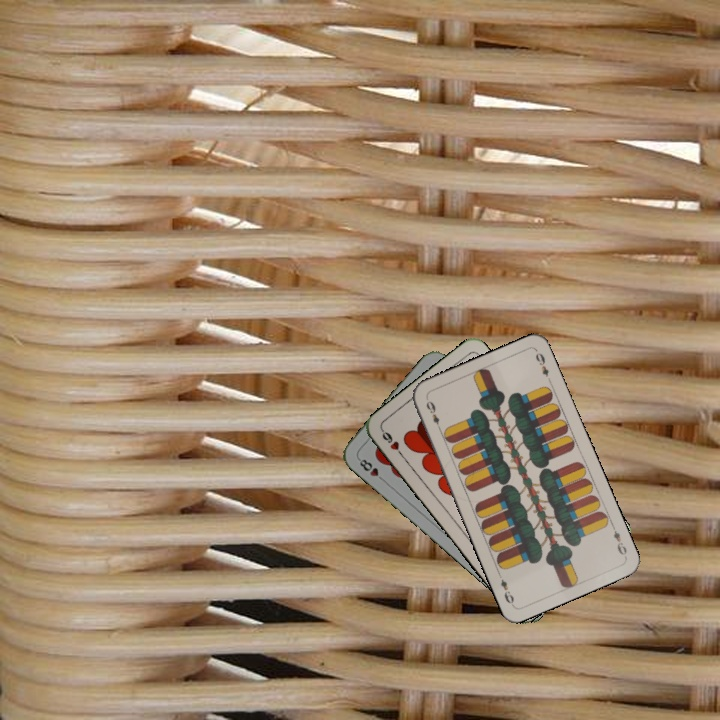E9: (608, 521, 629, 560), (422, 396, 444, 433)
H8: (354, 455, 388, 484)
H9: (378, 426, 407, 461)
